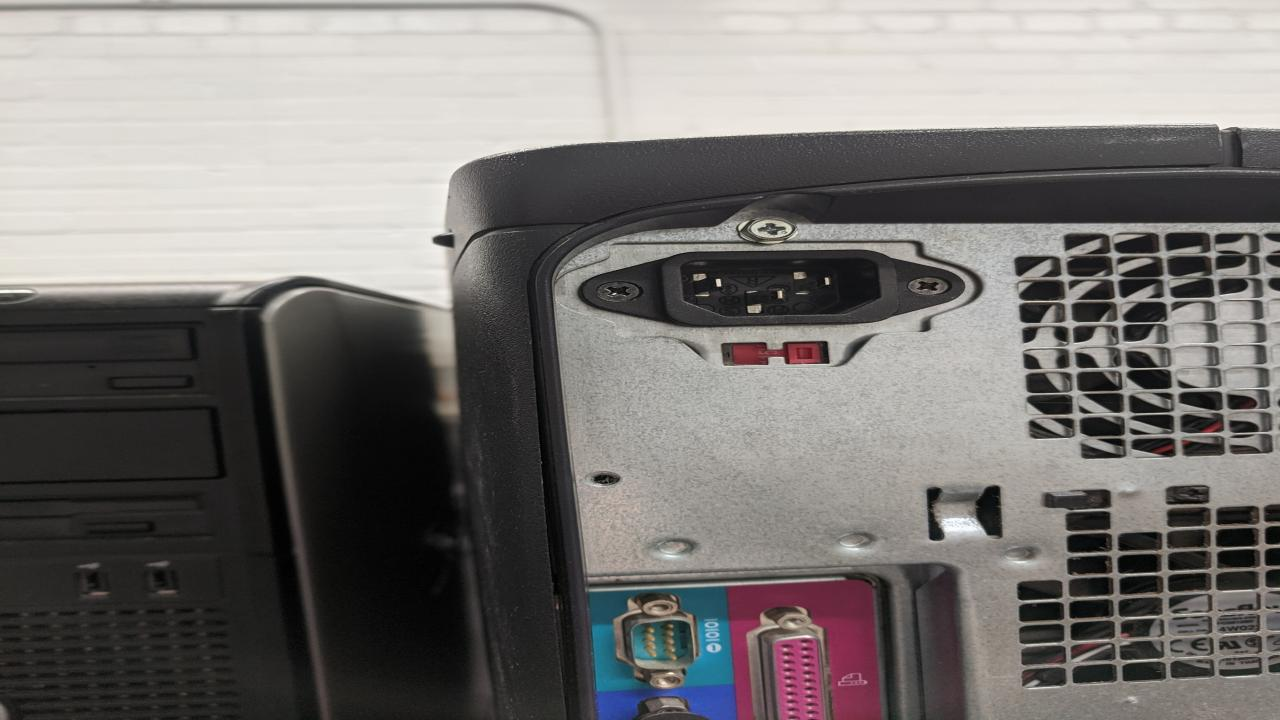CRS: (736, 219, 810, 244), (593, 282, 646, 304), (901, 276, 951, 298)
